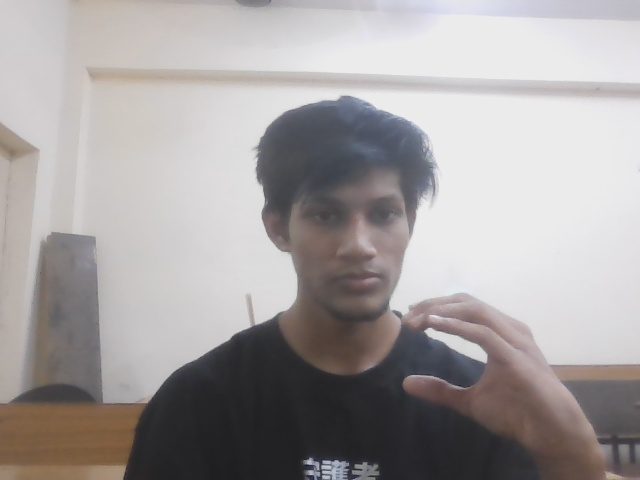no: (390, 278, 579, 455)
